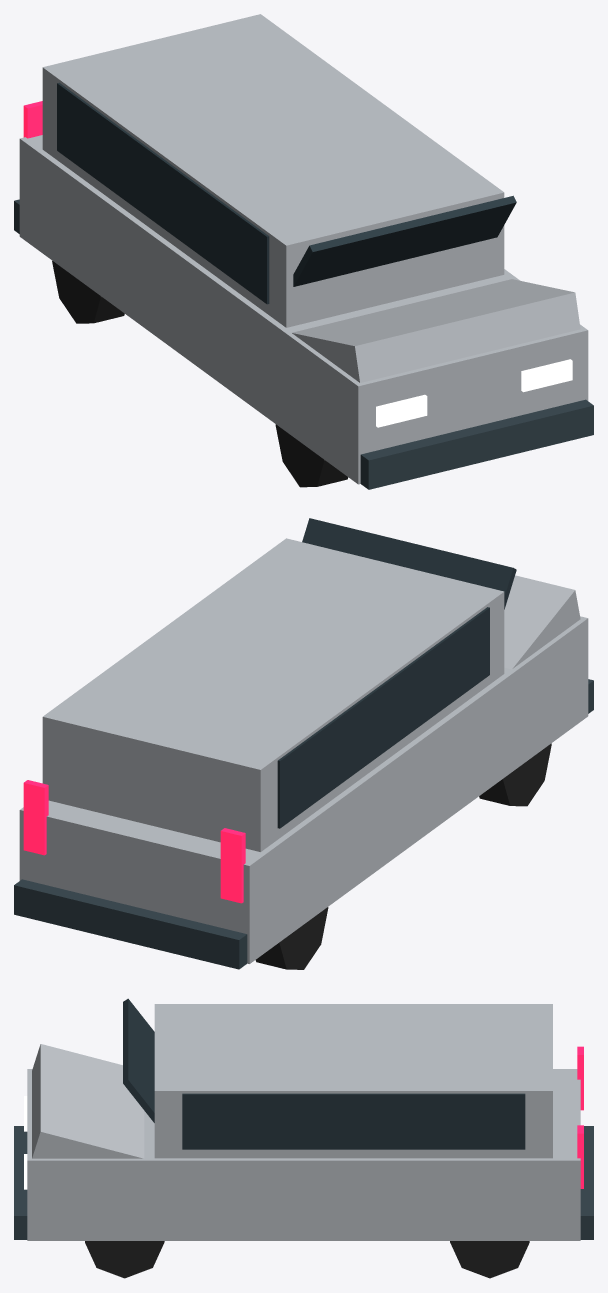
The model's file is town_minivan_lod.glb.
3 views of the same model, one above another, from view 1: azimuth 30°, elevation 25°; view 2: azimuth 150°, elevation 25°; view 3: azimuth 270°, elevation 25° (orthographic). The views are drawn at different scales.
Visible parts, largest first — view 1: TownMinivanLod_body; view 2: TownMinivanLod_body; view 3: TownMinivanLod_body.
Boxes of the visible parts, x1,y1,x2,y2 form: TownMinivanLod_body: [14, 14, 593, 489]; TownMinivanLod_body: [14, 518, 593, 969]; TownMinivanLod_body: [14, 998, 593, 1278].
Bounding box in the file's own units: 1.96 × 1.93 × 5.24.
